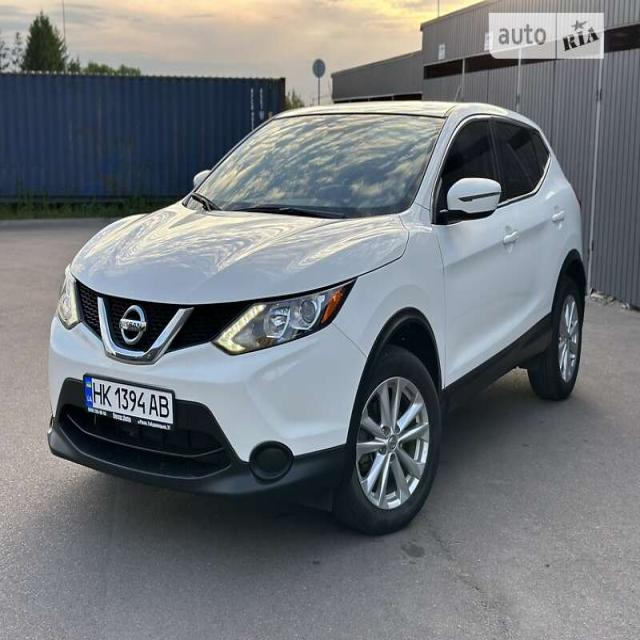plate: (85, 372, 185, 433)
